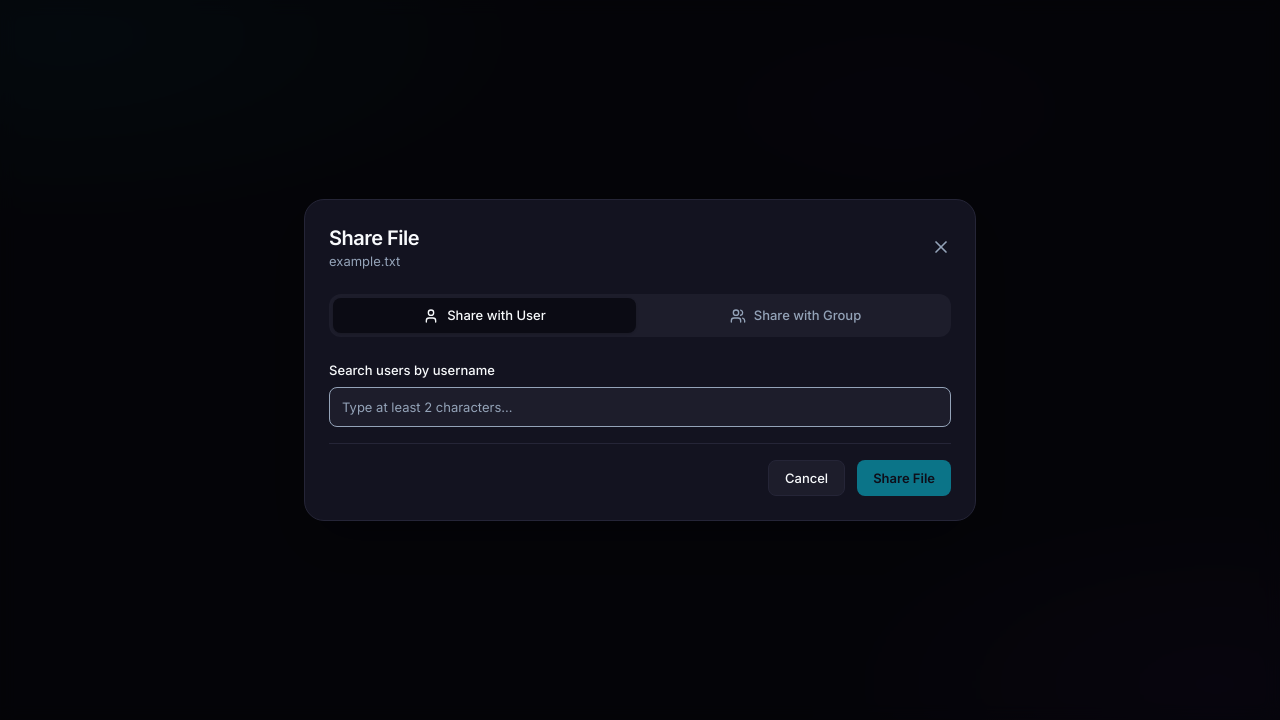
Test case: direct sharing uses the real lookup and verifies file access › treats a direct-share 503 as unconfirmed access and requires review
Type "ada" into the field labelled "Search users by username".
click(640, 407); type("ada")  # box [329,387,951,427]
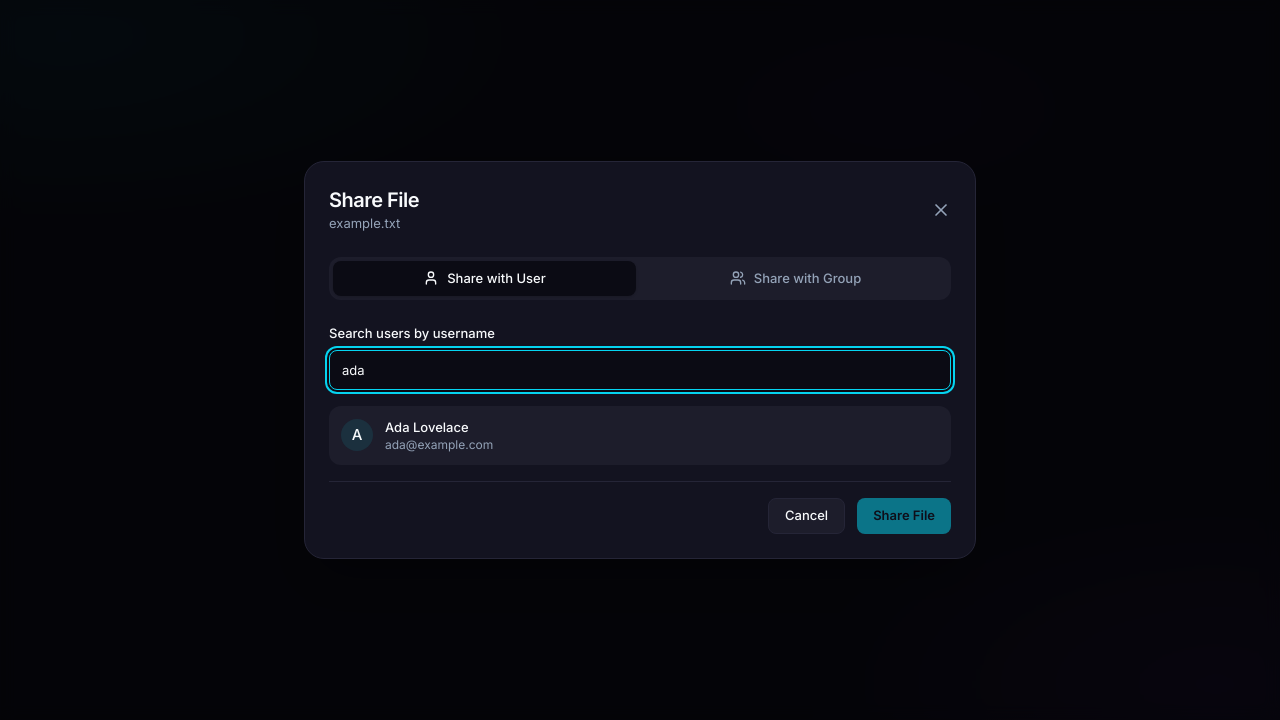
Click the button "A Ada Lovelace ada@example.com".
click(357, 435)  # box [329,406,951,465]
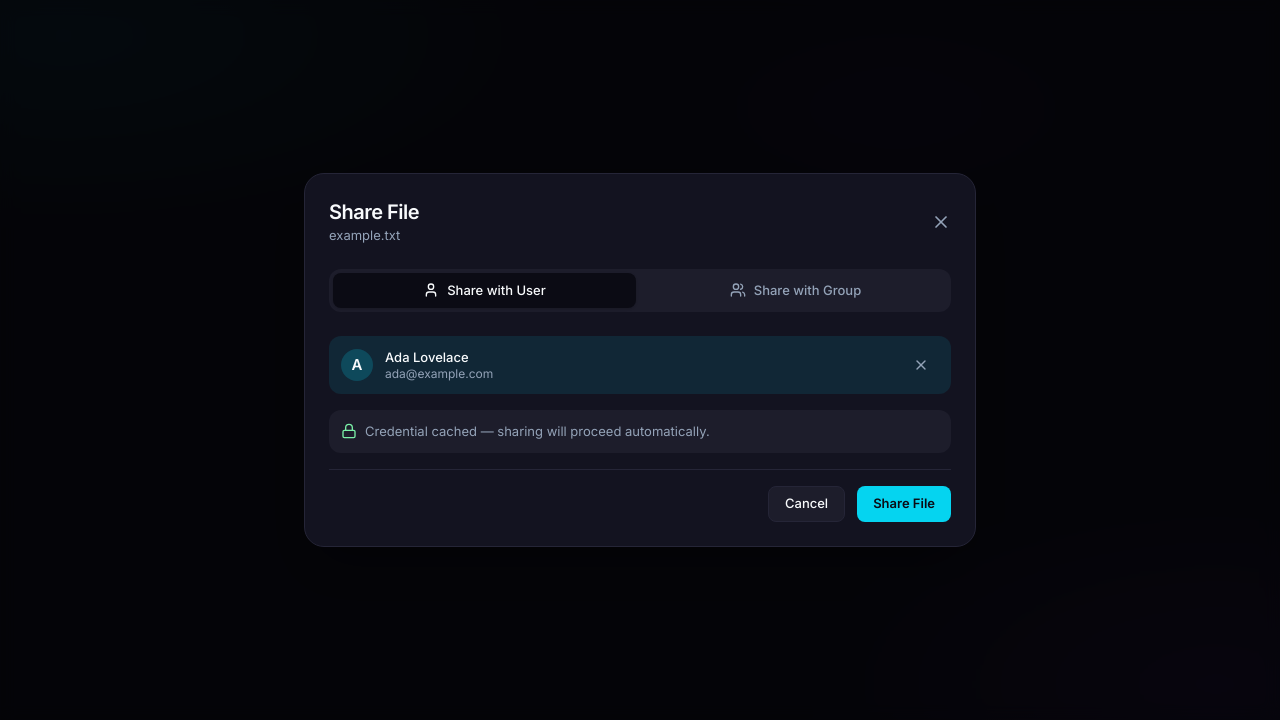
Click the button "Share File".
click(904, 504)  # box [857,486,951,522]
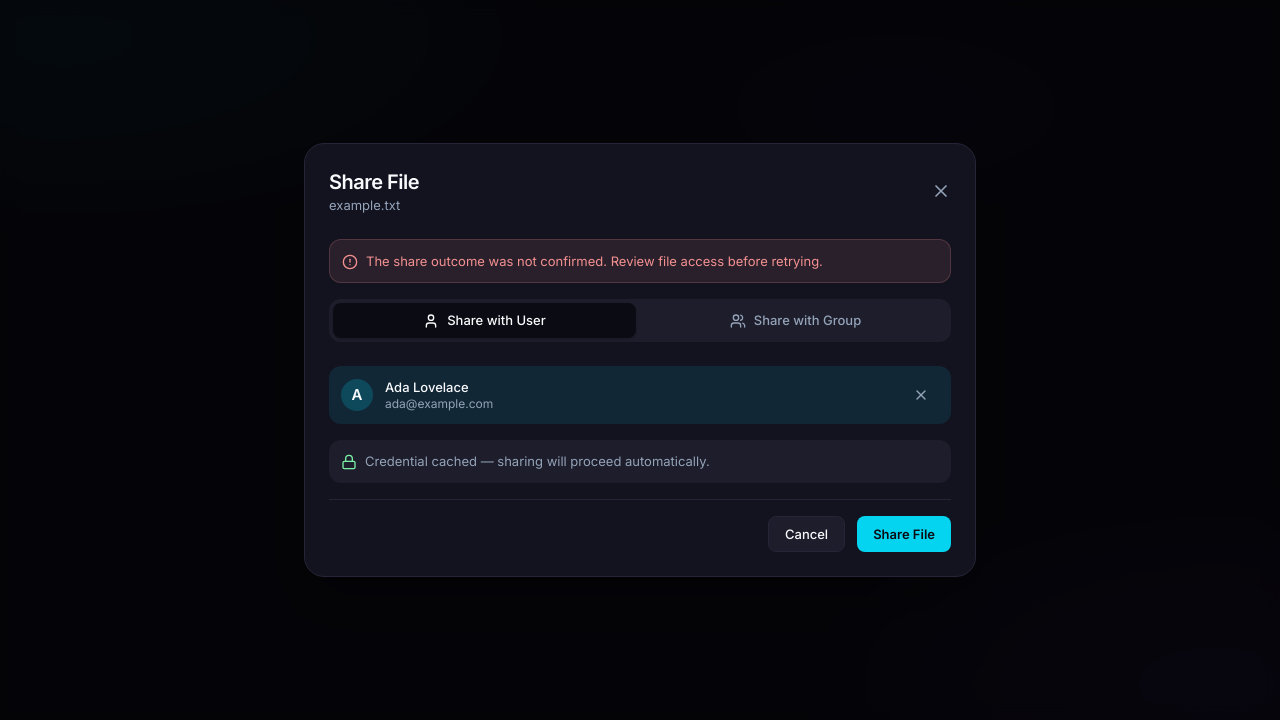
Result: the text "The share outcome was not confirmed. Review file access before retrying." is shown at [366,252,823,270]
